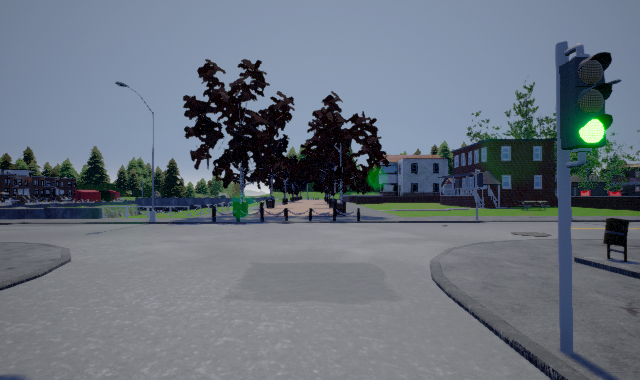traffic_light: (559, 50, 615, 149)
